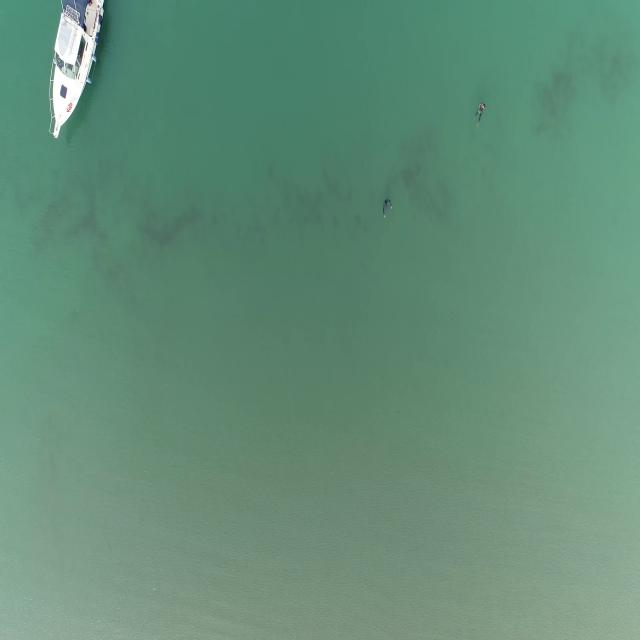boat: (44, 1, 104, 142)
person: (474, 104, 486, 133), (379, 200, 393, 222)
